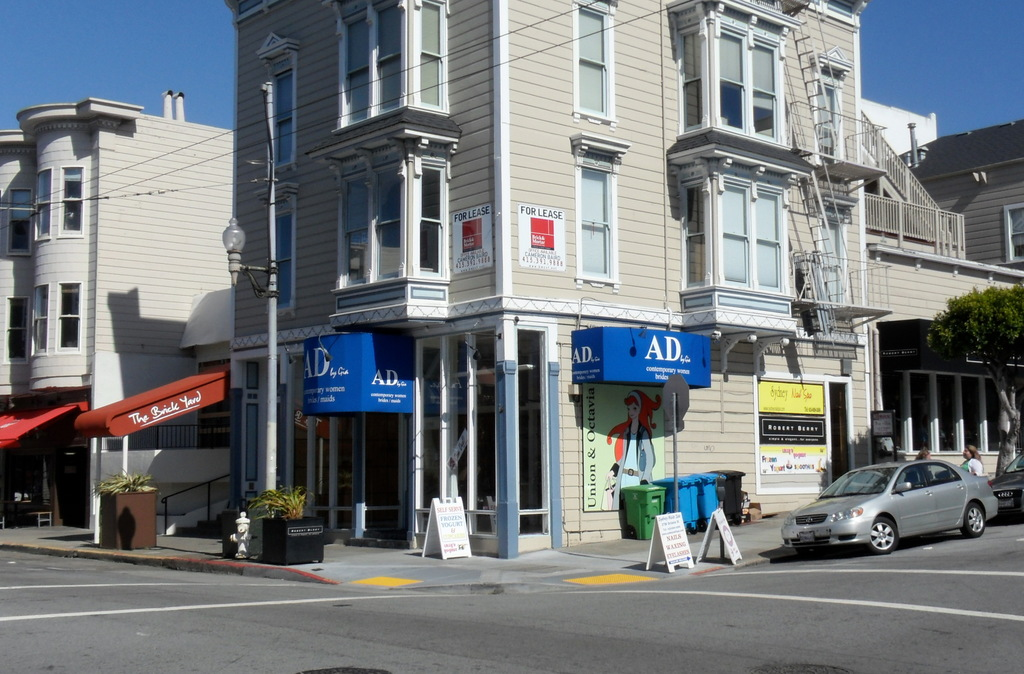Car: (779, 453, 1000, 560)
